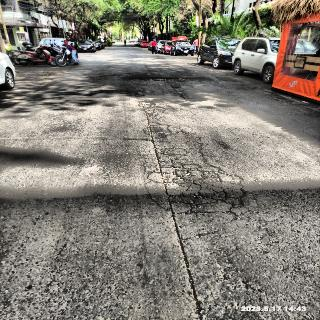pothole: (152, 153, 252, 214)
